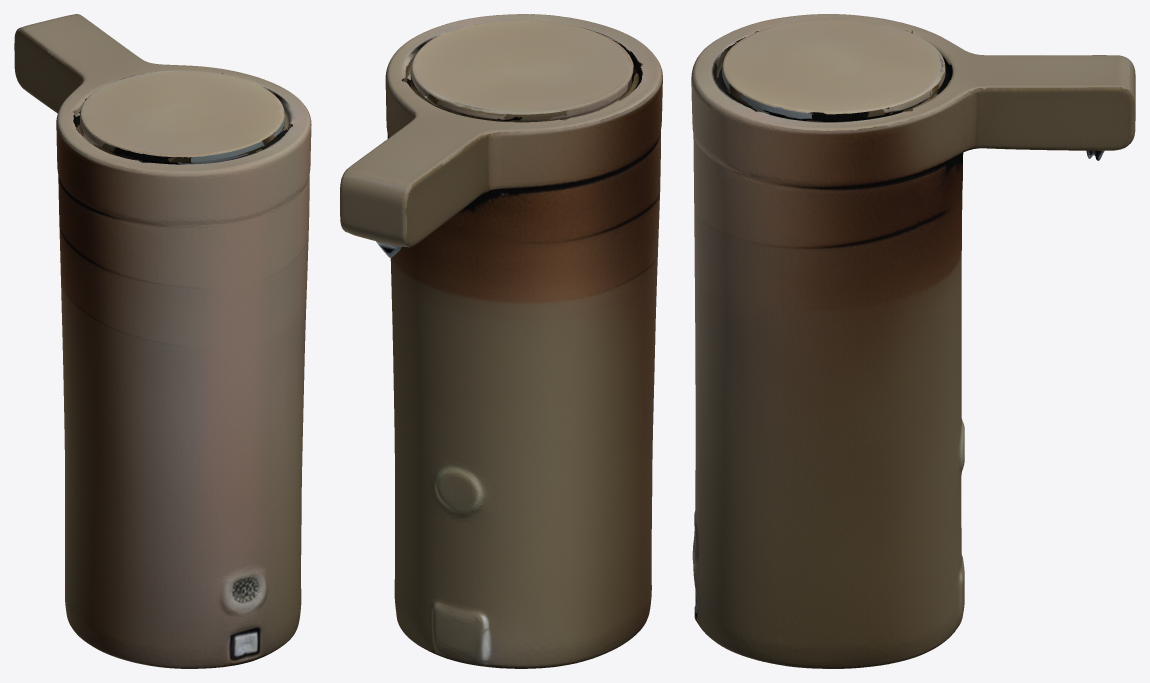
Rendered from 08e646af-1445-40f9-9baa-cecc22a984d5_result.glb.
3 views of the same model, side by side, from view 1: azimuth 30°, elevation 25°; view 2: azimuth 150°, elevation 25°; view 3: azimuth 270°, elevation 25° (orthographic). The views are drawn at different scales.
Parts seen in each view (by area): view 1: tmpxnz4tjtc.ply; view 2: tmpxnz4tjtc.ply; view 3: tmpxnz4tjtc.ply.
Part boxes in pixels (x1,y1,x2,y2): tmpxnz4tjtc.ply: (14, 14, 311, 668); tmpxnz4tjtc.ply: (340, 14, 662, 668); tmpxnz4tjtc.ply: (691, 14, 1135, 668).
Bounding box in the file's own units: 0.891 × 1.96 × 1.42.
1 material, 1 textured.
